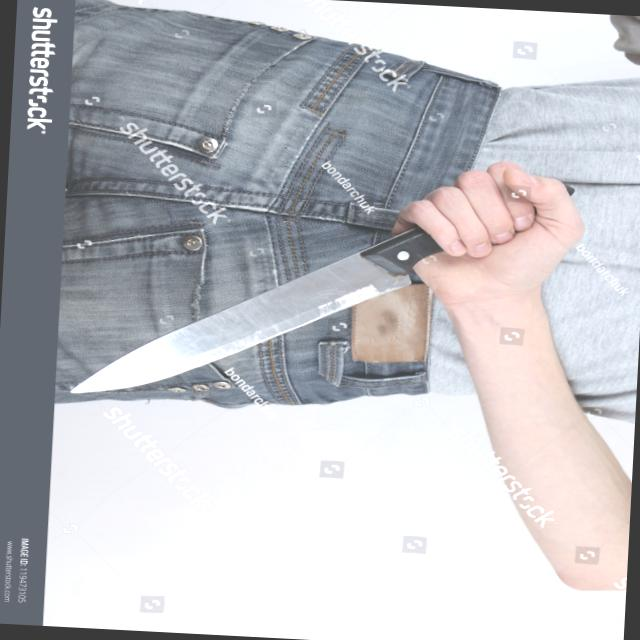knife: (64, 136, 521, 422)
